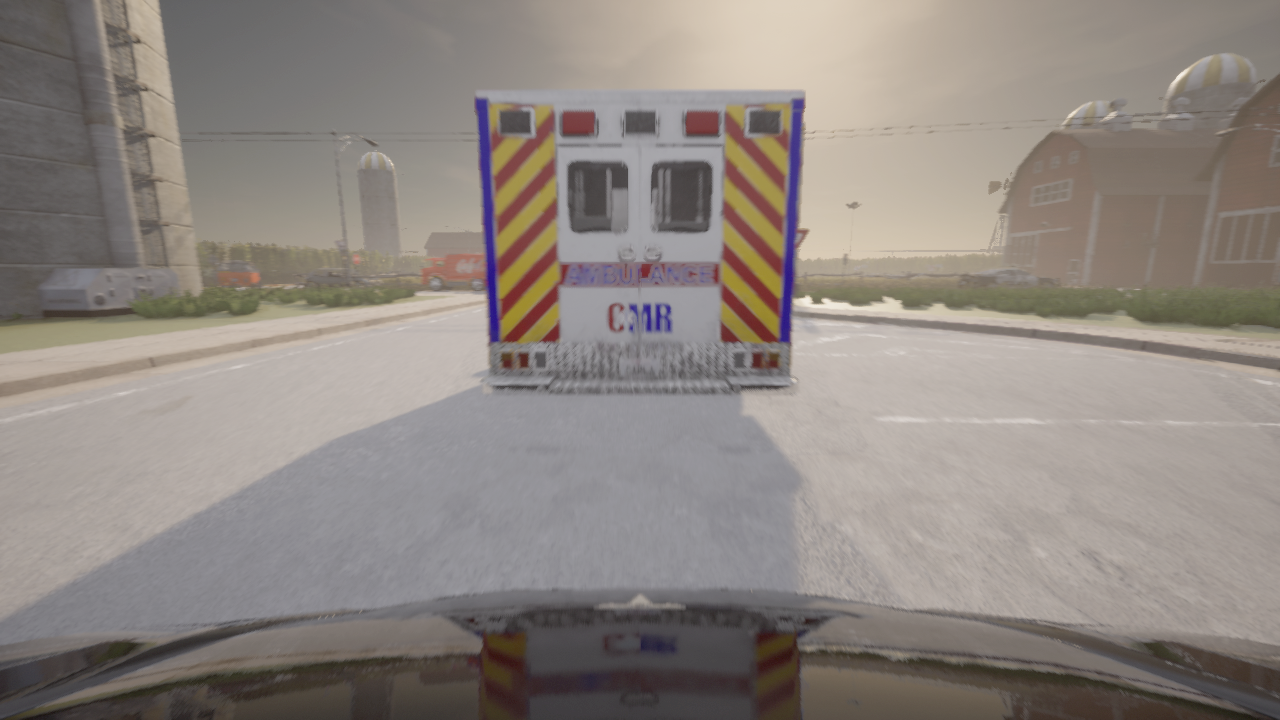cyclist: (0, 588, 1279, 719), (475, 91, 804, 395), (957, 265, 1060, 291), (420, 253, 485, 292), (304, 268, 383, 290), (217, 262, 261, 288), (385, 267, 413, 277)
